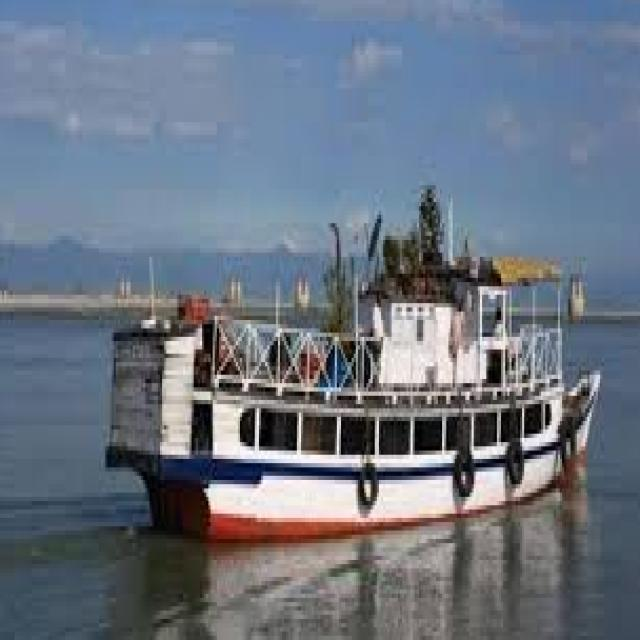fishing boat: (97, 210, 603, 539)
